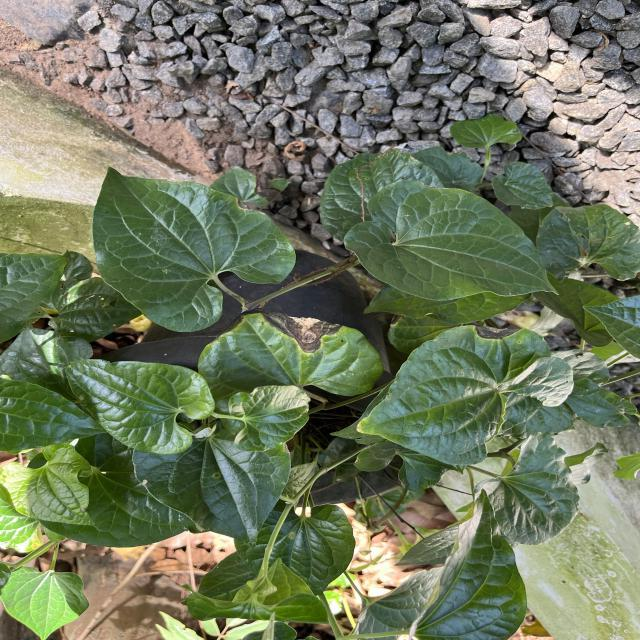Piper longum: (88, 164, 298, 336), (342, 178, 564, 304), (130, 444, 294, 553), (62, 356, 218, 456), (0, 565, 92, 640), (226, 382, 314, 456)
